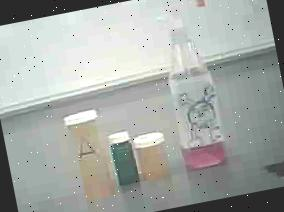Bottle A: (57, 105, 126, 212)
Bottle B: (132, 124, 175, 187)
Bottle C: (102, 119, 142, 189)
hazard: (141, 0, 253, 182)
